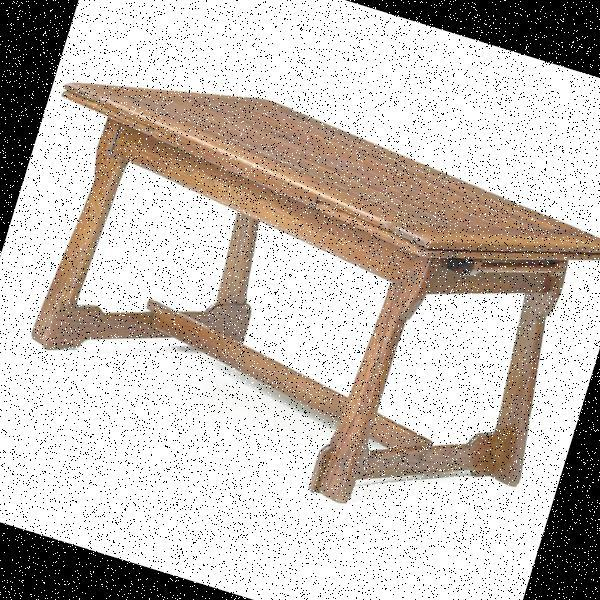Mesa: (0, 33, 599, 575)
